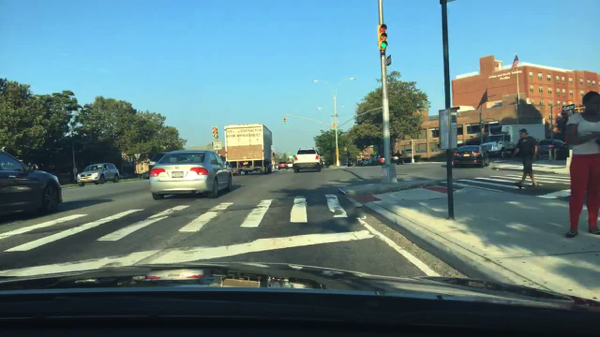car: (0, 151, 62, 220), (149, 151, 232, 200), (479, 124, 545, 159), (76, 163, 120, 186), (453, 146, 489, 167), (293, 148, 323, 172), (538, 139, 565, 156), (149, 153, 165, 171), (390, 153, 404, 165), (368, 157, 378, 166), (378, 157, 387, 164), (142, 172, 149, 179), (286, 162, 293, 168), (342, 162, 352, 166), (362, 160, 368, 166), (276, 165, 278, 169)
person: (565, 90, 599, 237), (509, 129, 537, 189), (29, 161, 39, 171), (361, 158, 364, 165)
traffic light: (377, 23, 387, 50), (213, 143, 223, 151), (213, 127, 218, 139), (333, 124, 336, 130), (284, 117, 286, 124)
traffic sign: (561, 104, 574, 112), (386, 54, 391, 67), (134, 153, 141, 159)
truck: (224, 123, 273, 176)
